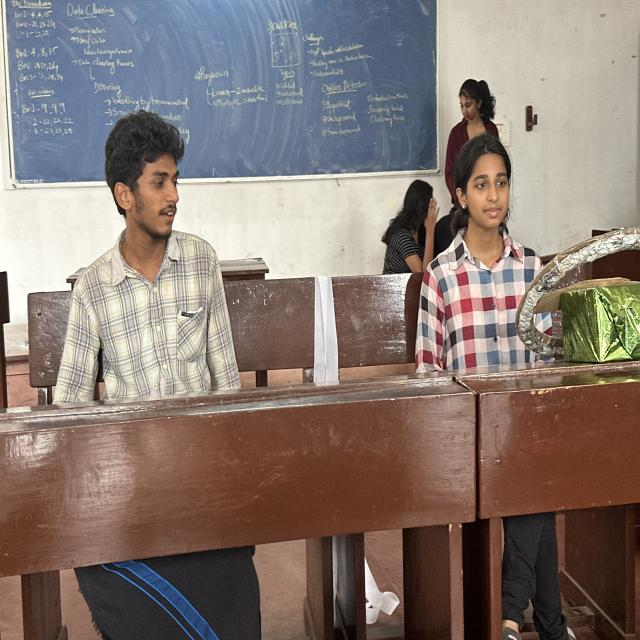no-seatbelt: (51, 216, 263, 443), (407, 199, 602, 431)
